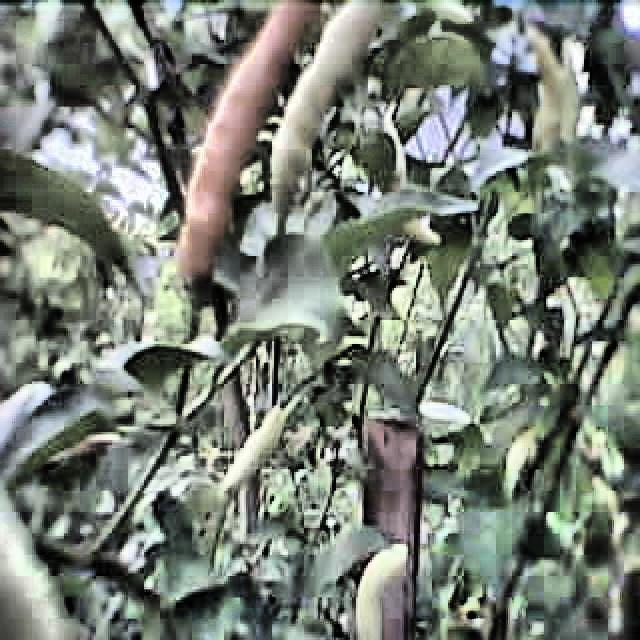Cabai: (161, 0, 260, 250)
